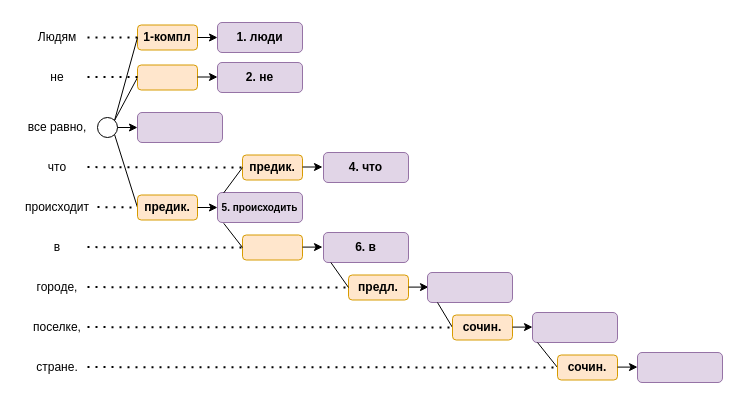
This 740x404 diagram has some shape labels left out. The centre of each missing label's shape, as x and y in pixels:
"1-компл." belongs at [272,247].
"3. все равно" belongs at [179,127].
"7. город" belongs at [469,287].
"8. поселок" belongs at [575,327].
"9. страна" belongs at [679,367].
"огранич." belongs at [167,77].
